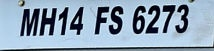character: (19, 7, 40, 36), (38, 7, 57, 36), (93, 5, 109, 35), (107, 5, 123, 35), (69, 5, 84, 35), (161, 4, 176, 34), (174, 3, 188, 34), (131, 4, 145, 34), (145, 4, 159, 33), (57, 6, 69, 35)
